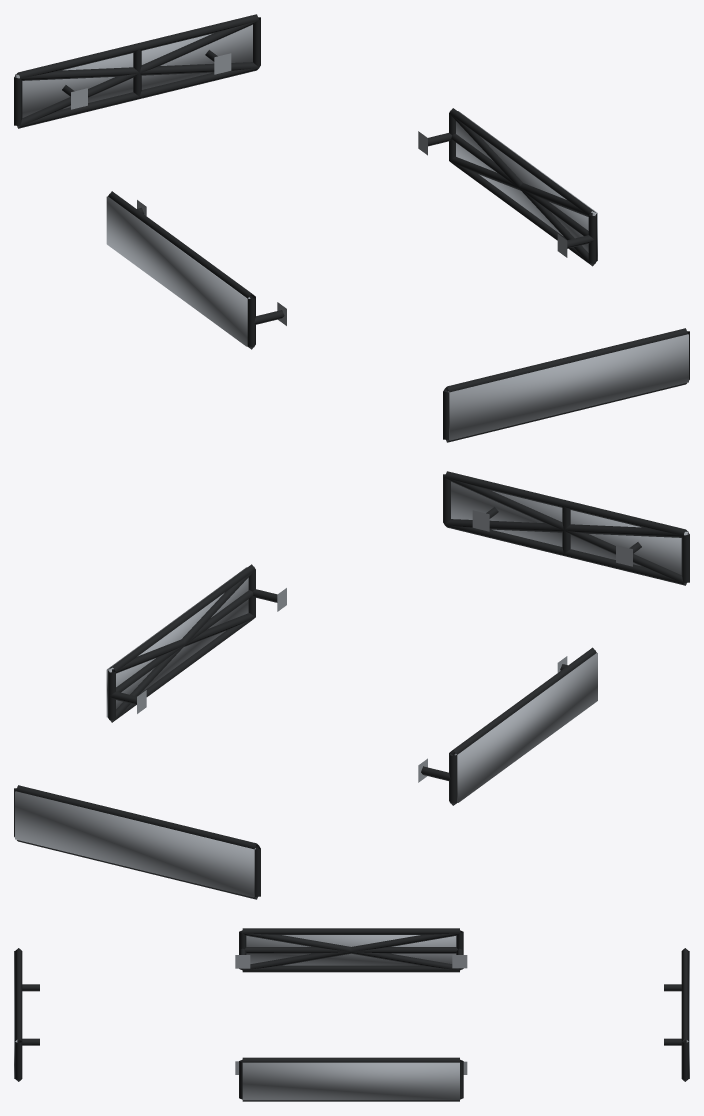
File: vantra_obsidiana_protecao.glb
The picture shows the model from 3 angles, top to bottom: view 1: azimuth 30°, elevation 25°; view 2: azimuth 150°, elevation 25°; view 3: azimuth 270°, elevation 25°; orthographic projection. The views are drawn at different scales.
Parts seen in each view (by area): view 1: Protection_front_Level3_Details, Protection_left_Level3_Details, Protection_rear_Level3_Details, Protection_rear_Level1_Details, Protection_rear_Level2_Details, Protection_right_Level1_Details, Protection_right_Level2_Details, Protection_right_Level3_Details, Protection_front_Level1_Details, Protection_left_Level1_Details; view 2: Protection_rear_Level3_Details, Protection_left_Level3_Details, Protection_front_Level3_Details, Protection_front_Level1_Details, Protection_front_Level2_Details, Protection_right_Level1_Details, Protection_right_Level2_Details, Protection_right_Level3_Details, Protection_rear_Level1_Details, Protection_left_Level1_Details; view 3: Protection_right_Level3_Details, Protection_left_Level1_Details, Protection_left_Level2_Details, Protection_left_Level3_Details, Protection_right_Level1_Details, Protection_rear_Level1_Details, Protection_front_Level1_Details.
Boxes of the visible parts, x1,y1,x2,y2 form: Protection_front_Level3_Details: (448, 334, 688, 440); Protection_left_Level3_Details: (106, 196, 250, 346); Protection_rear_Level3_Details: (15, 24, 252, 117); Protection_rear_Level1_Details: (14, 14, 260, 128); Protection_rear_Level2_Details: (16, 20, 258, 127); Protection_right_Level1_Details: (418, 108, 596, 266); Protection_right_Level2_Details: (449, 114, 595, 265); Protection_right_Level3_Details: (456, 111, 597, 260); Protection_front_Level1_Details: (443, 328, 689, 442); Protection_left_Level1_Details: (108, 191, 286, 349); Protection_rear_Level3_Details: (15, 791, 255, 897); Protection_left_Level3_Details: (454, 653, 597, 802); Protection_front_Level3_Details: (451, 481, 688, 574); Protection_front_Level1_Details: (443, 471, 689, 585); Protection_front_Level2_Details: (445, 477, 687, 584); Protection_right_Level1_Details: (108, 564, 286, 722); Protection_right_Level2_Details: (108, 570, 255, 722); Protection_right_Level3_Details: (106, 567, 248, 717); Protection_rear_Level1_Details: (14, 785, 260, 899); Protection_left_Level1_Details: (418, 647, 596, 805); Protection_right_Level3_Details: (242, 1062, 459, 1100); Protection_left_Level1_Details: (235, 928, 467, 972); Protection_left_Level2_Details: (242, 932, 460, 970); Protection_left_Level3_Details: (246, 935, 456, 965); Protection_right_Level1_Details: (235, 1057, 467, 1101); Protection_rear_Level1_Details: (664, 948, 688, 1081); Protection_front_Level1_Details: (15, 948, 39, 1081).
Size of the model in its own units: 2.31 by 0.354 by 4.95.
1 material, 1 textured.
